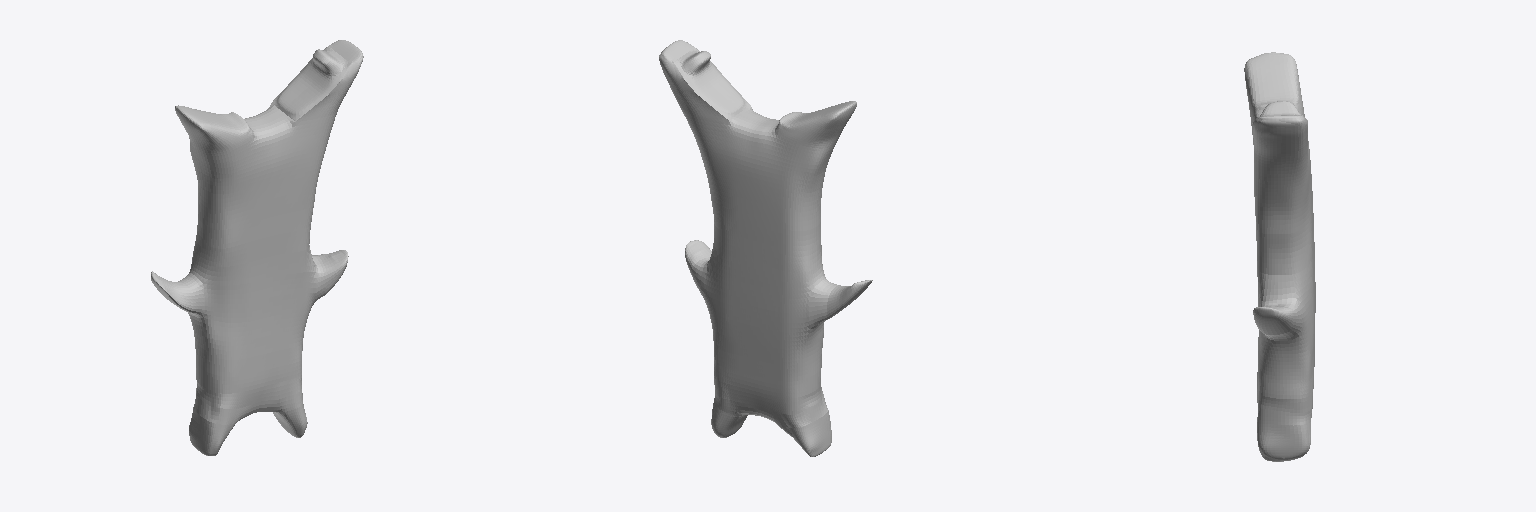
File: korok15.obj
3 renders of one model, left to right at view 1: azimuth 30°, elevation 25°; view 2: azimuth 150°, elevation 25°; view 3: azimuth 270°, elevation 25°, orthographic.
Parts seen in each view (by area): view 1: Plane; view 2: Plane; view 3: Plane.
Boxes of the visible parts, x1,y1,x2,y2 form: Plane: [151, 40, 363, 455]; Plane: [659, 40, 872, 456]; Plane: [1244, 52, 1315, 461].
Bounding box in the file's own units: 1.03 × 1.82 × 0.3141.